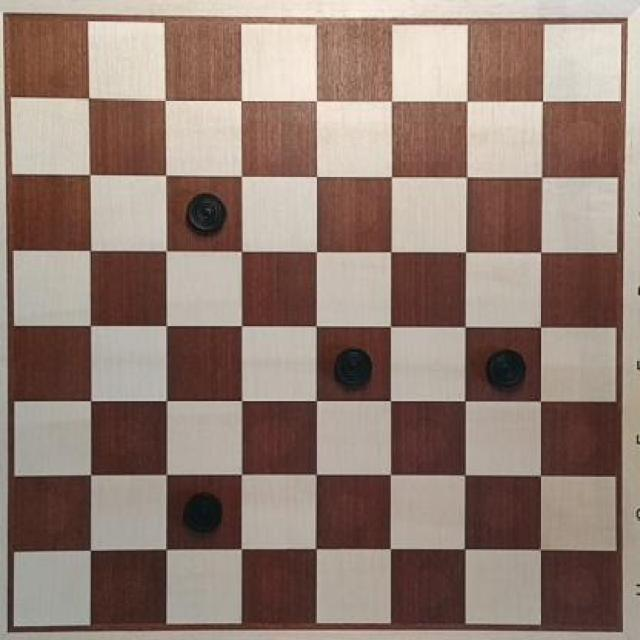BOARD: (6, 14, 624, 632)
black: (178, 177, 235, 247), (172, 478, 228, 545), (320, 338, 384, 396), (481, 337, 533, 397)
